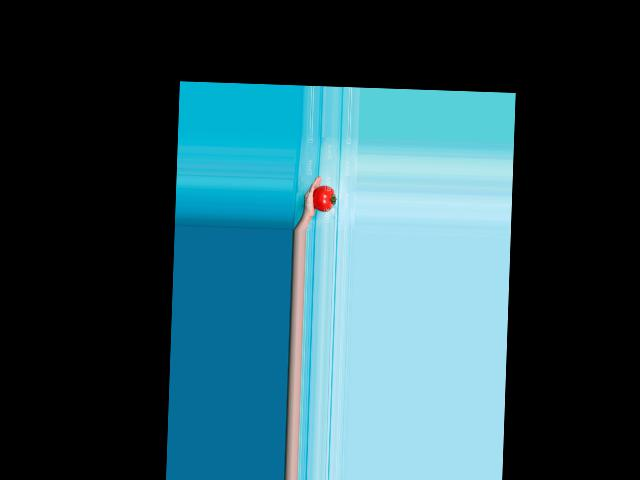tomato: (312, 184, 336, 211)
